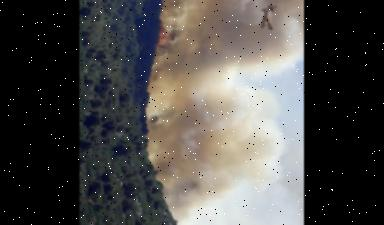fire: (148, 0, 182, 91)
